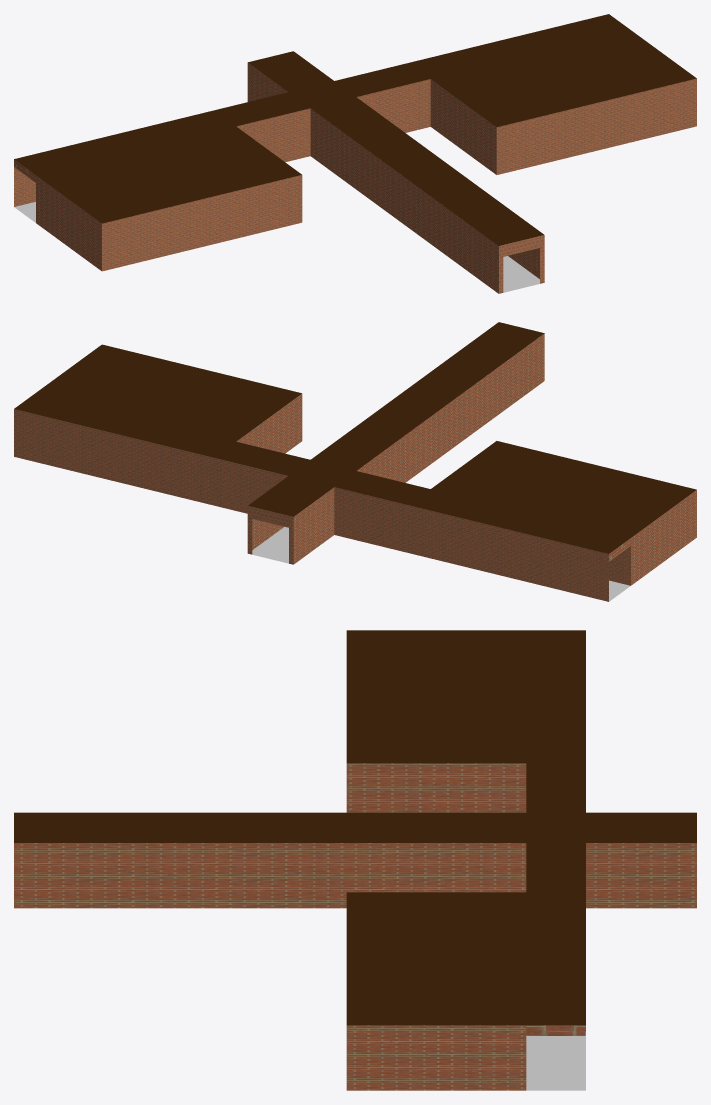
File: Bathroom.fbx
3 renders of one model, top to bottom at view 1: azimuth 30°, elevation 25°; view 2: azimuth 150°, elevation 25°; view 3: azimuth 270°, elevation 25°, orthographic. The views are drawn at different scales.
Visible parts, largest first — view 1: BathRoom; view 2: BathRoom; view 3: BathRoom.
Part boxes in pixels (x1=…): BathRoom: x1=14, y1=14, x2=696, y2=293; BathRoom: x1=14, y1=322, x2=696, y2=601; BathRoom: x1=14, y1=630, x2=696, y2=1090.
Bounding box in the file's own units: 130 × 10 × 95.
